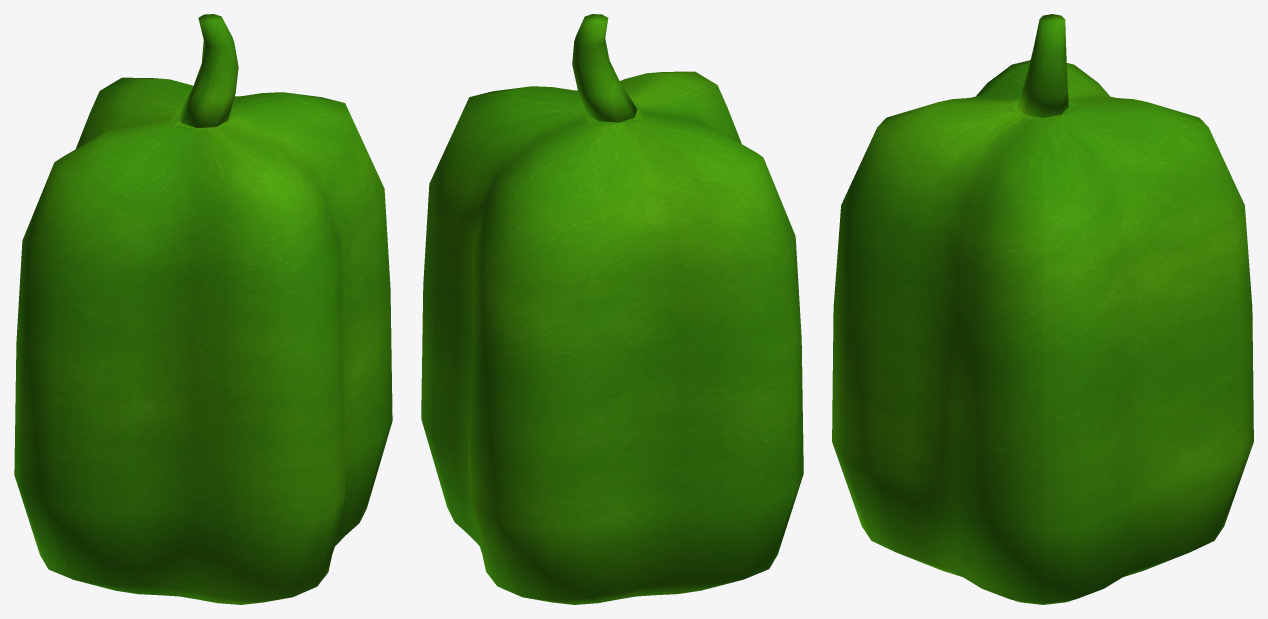
File: green_pepper-sup3AgHT.glb
3 renders of one model, left to right at view 1: azimuth 30°, elevation 25°; view 2: azimuth 150°, elevation 25°; view 3: azimuth 270°, elevation 25°, orthographic.
Parts seen in each view (by area): view 1: FLC_green_pepper; view 2: FLC_green_pepper; view 3: FLC_green_pepper.
Boxes of the visible parts, x1,y1,x2,y2 form: FLC_green_pepper: (14,14,392,604); FLC_green_pepper: (421,14,803,604); FLC_green_pepper: (832,14,1253,604).
Size of the model in its own units: 0.9 by 1.27 by 0.9.
2 materials, 2 textured.
